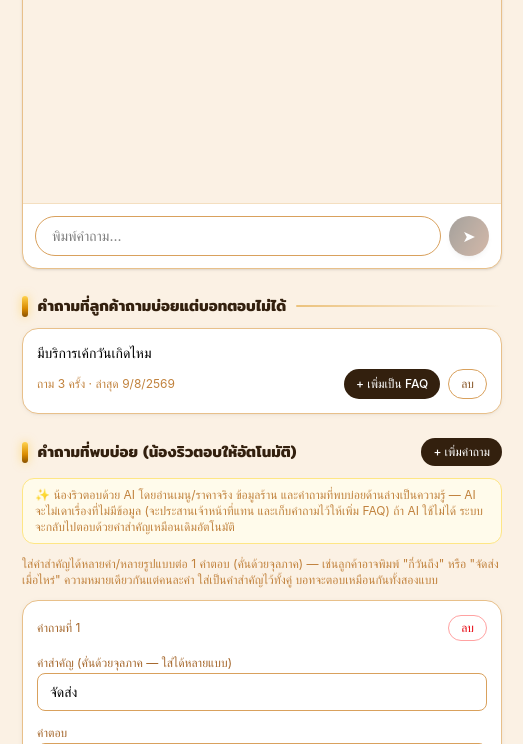
Test: หน้าจัดการแชทบอทน้องริว › กด "+ เพิ่มเป็น FAQ" เพิ่มคำถามใหม่พร้อมคำสำคัญ และลบออกจากรายการที่ตอบไม่ได้
(page scrolled)
Click the button "+ เพิ่มเป็น FAQ" at [392, 384], box [344,369,440,399]
(page scrolled)
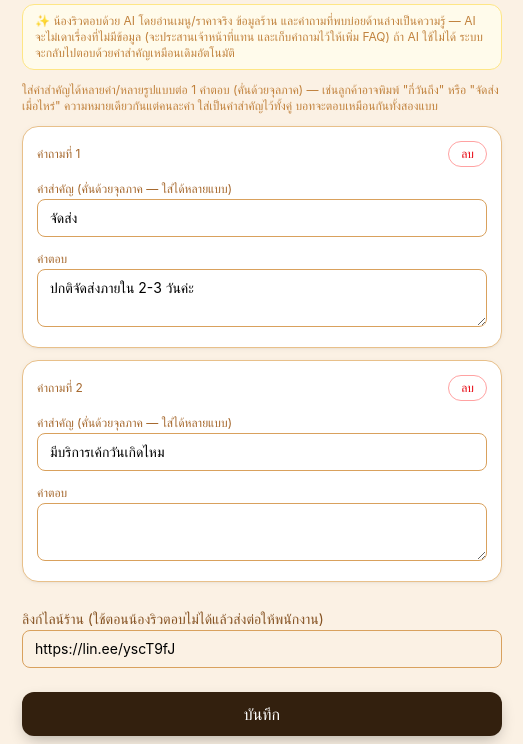
Check: the 2nd field showing "มีบริการเค้กวันเกิดไหม" is shown, box [37,433,487,471]
